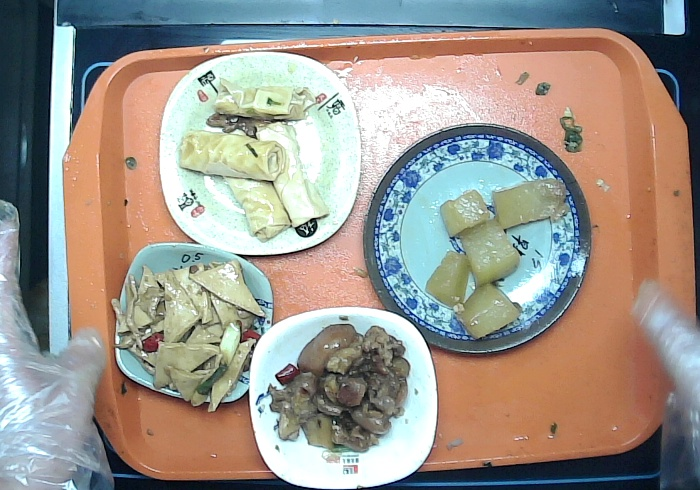NLDX-Bai_Se_Xiao_Fang_Die: (247, 310, 445, 488)
NLDX-Fu_Zi_Fang_Die: (153, 53, 360, 255)
NLDX-Qing_Hua_Xiao_Fang_Die: (116, 242, 276, 414)
NLDX-Qing_Hua_Yuan_Die: (355, 123, 597, 357)
